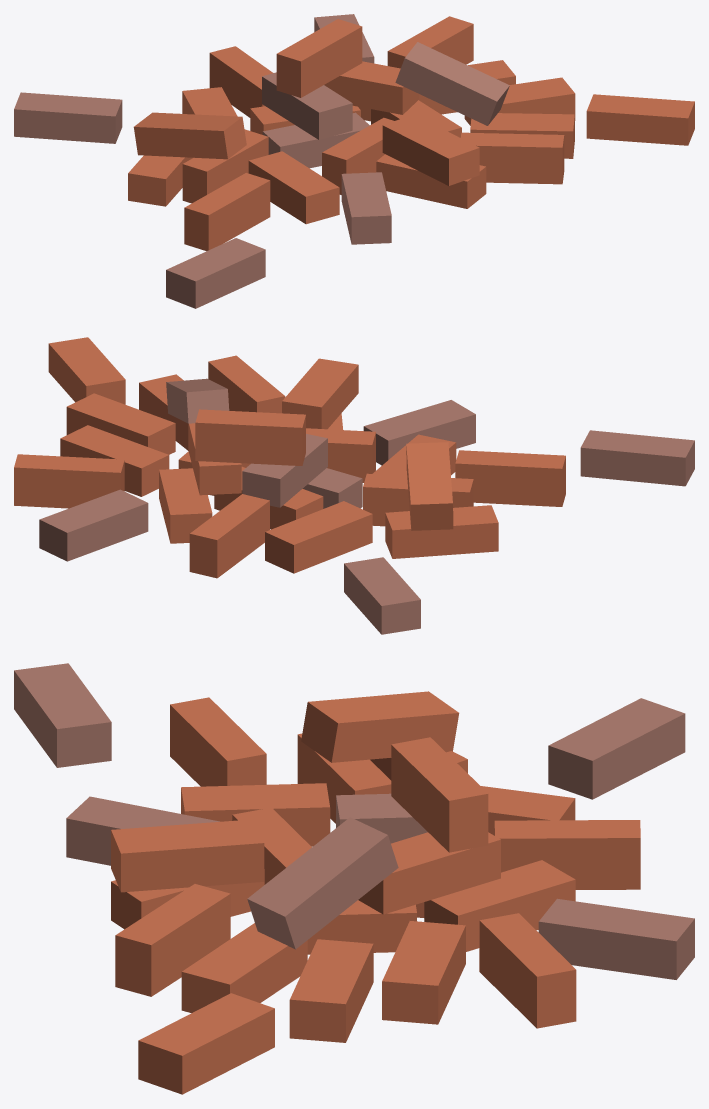
File: Brick_Pile_m_07 2.fbx
The picture shows the model from 3 angles, top to bottom: view 1: azimuth 30°, elevation 25°; view 2: azimuth 150°, elevation 25°; view 3: azimuth 270°, elevation 25°; orthographic projection. The views are drawn at different scales.
Visible parts, largest first — view 1: Brick_Pile_m_07; view 2: Brick_Pile_m_07; view 3: Brick_Pile_m_07.
Part boxes in pixels (x1,y1,x2,y2): Brick_Pile_m_07: [14, 14, 694, 308]; Brick_Pile_m_07: [14, 337, 694, 634]; Brick_Pile_m_07: [14, 663, 694, 1094].
Bounding box in the file's own units: 163 × 25 × 119.
